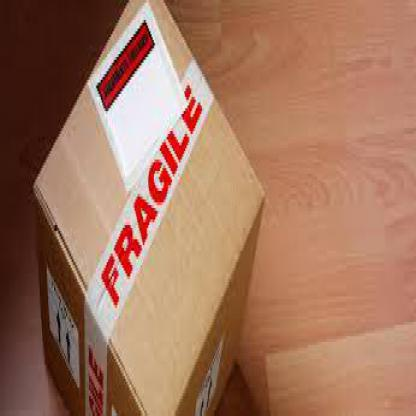paquete: (21, 6, 274, 413)
